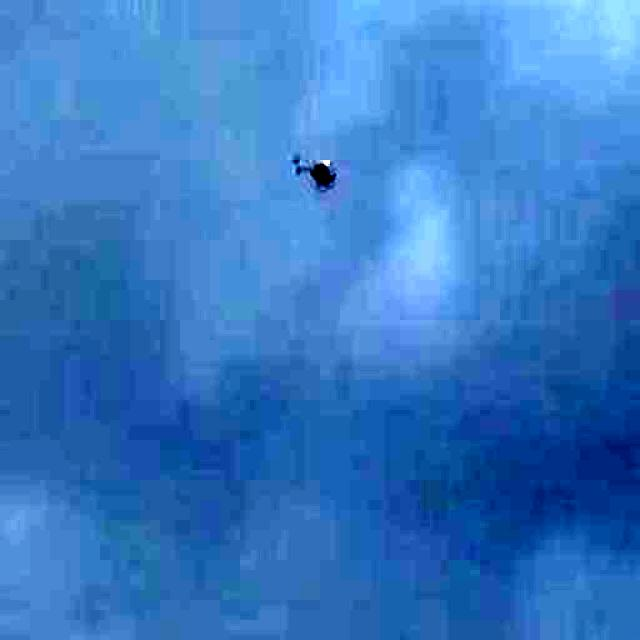drone: (238, 104, 381, 230)
